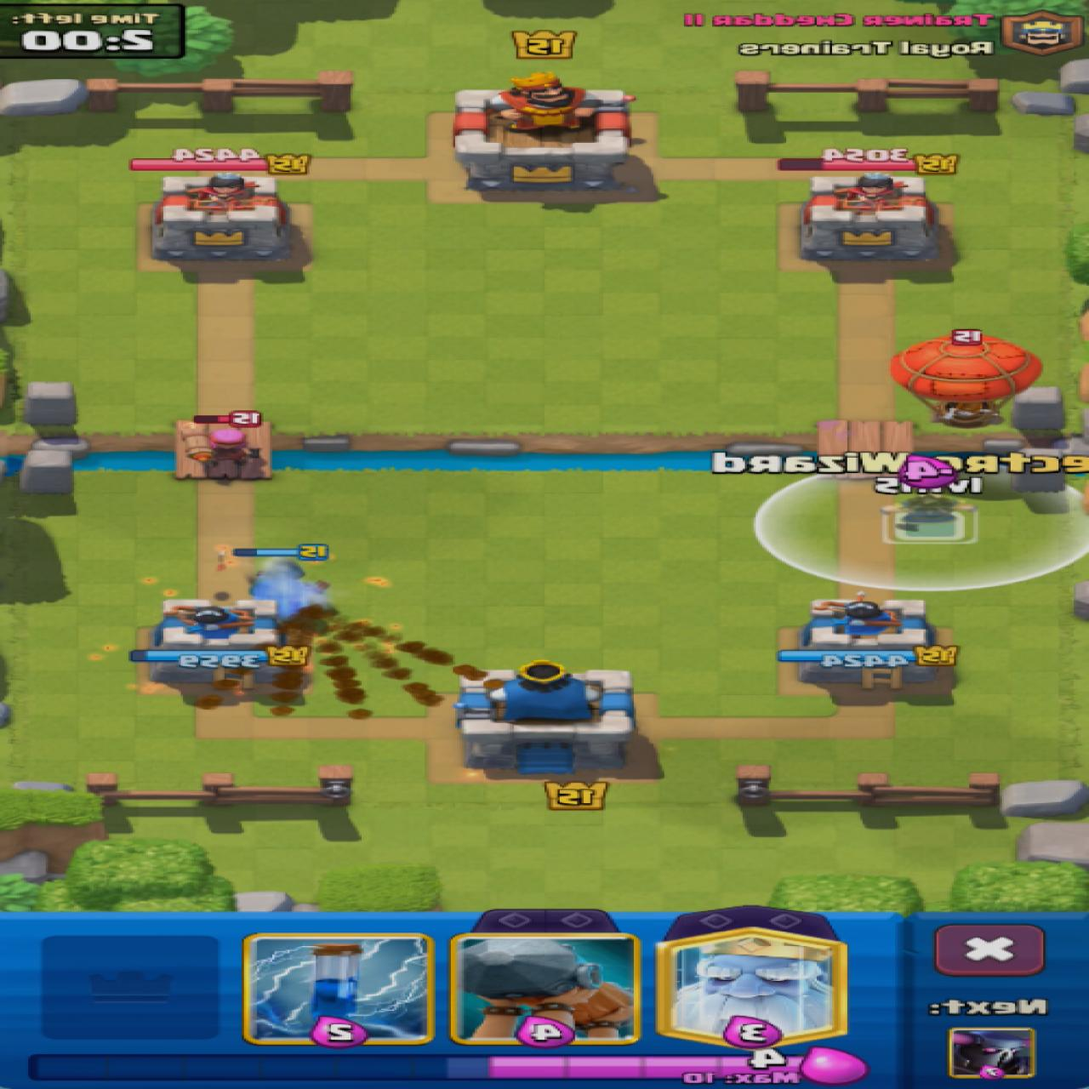Enemy-Balloon: (895, 330, 1041, 427)
Enemy-Firecracker: (178, 428, 269, 469)
Enemy-KingTower: (455, 73, 632, 194)
Enemy-PrincessTower: (802, 173, 941, 262), (155, 173, 290, 261)
